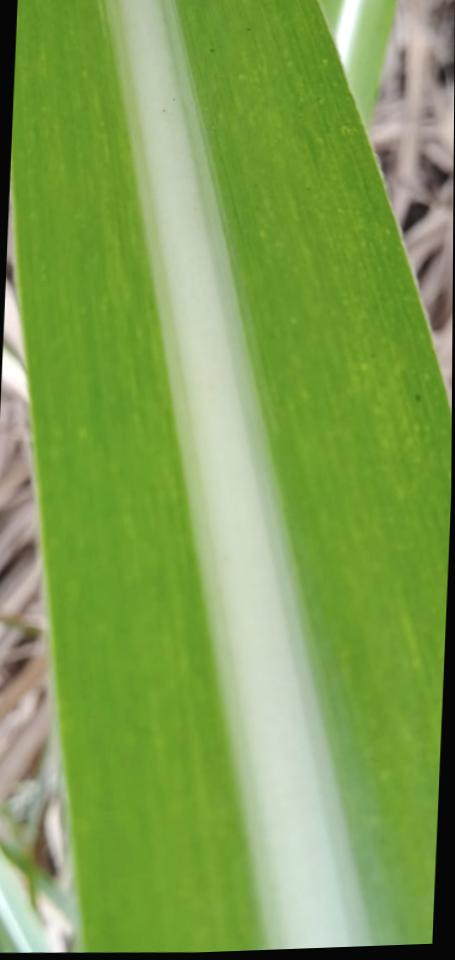Healthy: (10, 0, 452, 952)
